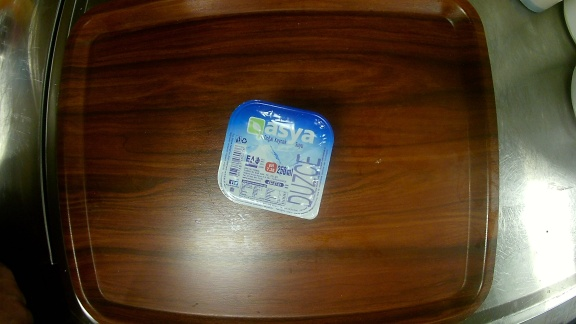kucuksu: (210, 95, 340, 226)
